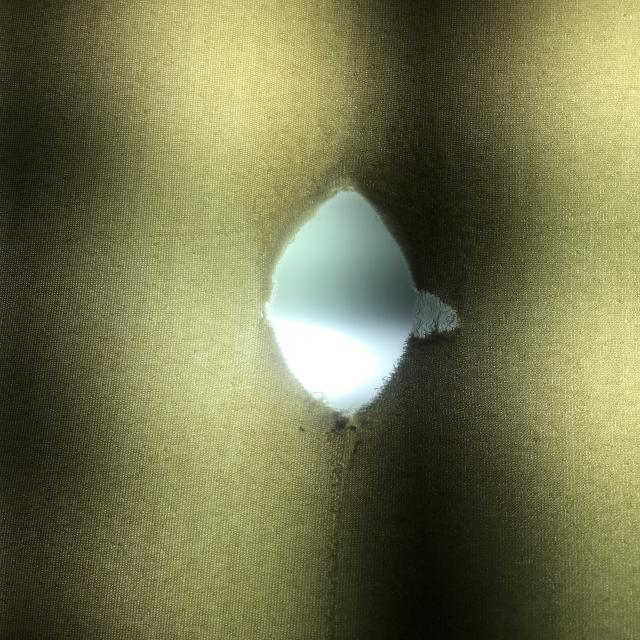hole: (231, 169, 468, 476)
